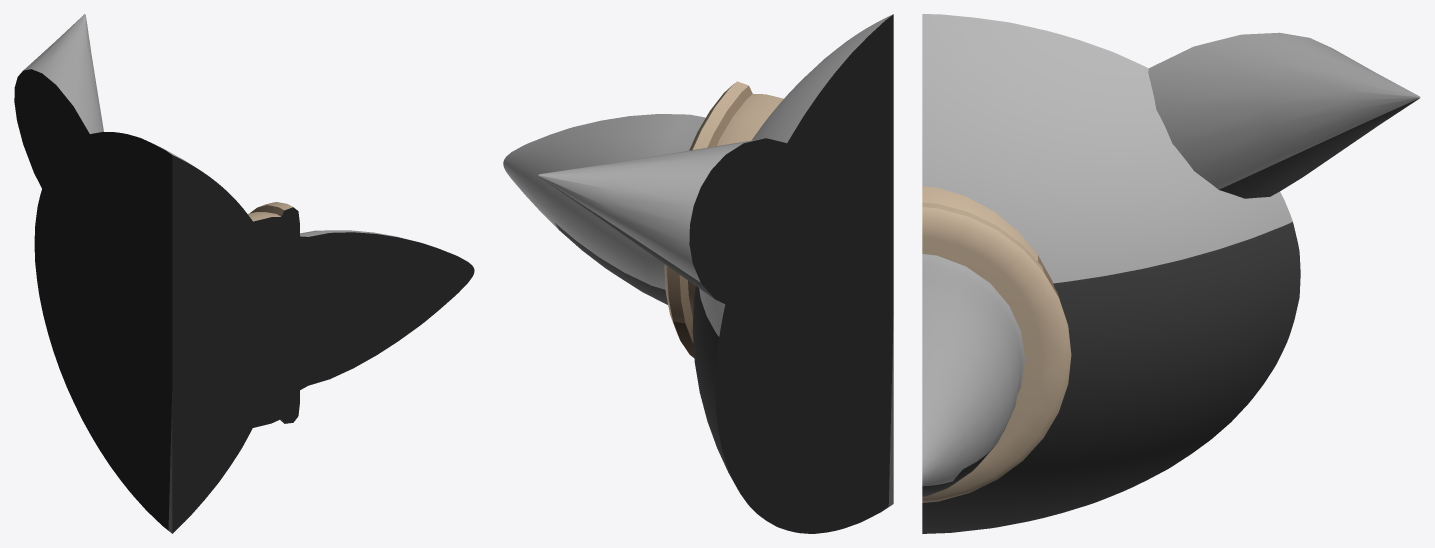
The model's file is mace_tr.glb.
3 views of the same model, side by side, from view 1: azimuth 30°, elevation 25°; view 2: azimuth 150°, elevation 25°; view 3: azimuth 270°, elevation 25° (orthographic). The views are drawn at different scales.
Visible parts, largest first — view 1: ball.001, spike3.001, collar3.001, short0.001; view 2: ball.001, short0.001, spike3.001, collar3.001; view 3: ball.001, short0.001, spike3.001, collar3.001.
Boxes of the visible parts, bbox=[...] form: ball.001: bbox=[34, 132, 280, 533]; spike3.001: bbox=[202, 230, 474, 422]; collar3.001: bbox=[210, 202, 299, 433]; short0.001: bbox=[14, 14, 103, 235]; ball.001: bbox=[692, 14, 893, 533]; short0.001: bbox=[537, 138, 802, 309]; spike3.001: bbox=[503, 114, 705, 304]; collar3.001: bbox=[664, 81, 783, 357]; ball.001: bbox=[922, 14, 1300, 533]; short0.001: bbox=[1148, 32, 1420, 198]; spike3.001: bbox=[922, 254, 1024, 496]; collar3.001: bbox=[922, 186, 1071, 502].
Size of the model in its own units: 15.11 by 18.1 by 15.72.
